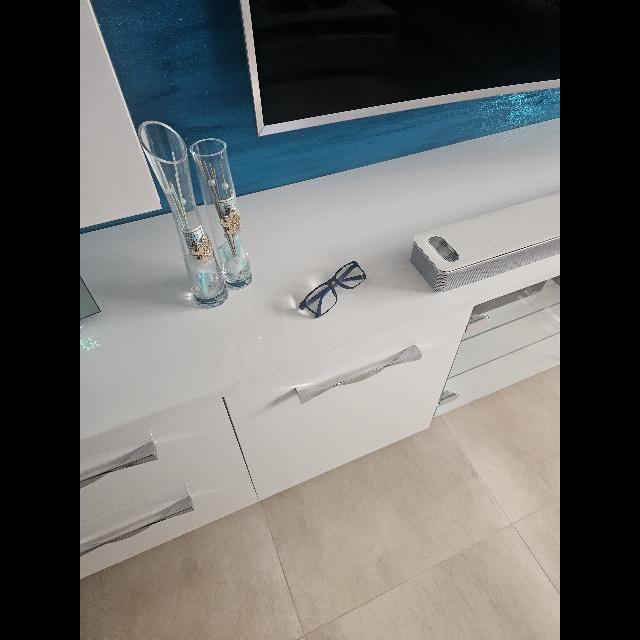glasses: (299, 260, 366, 318)
